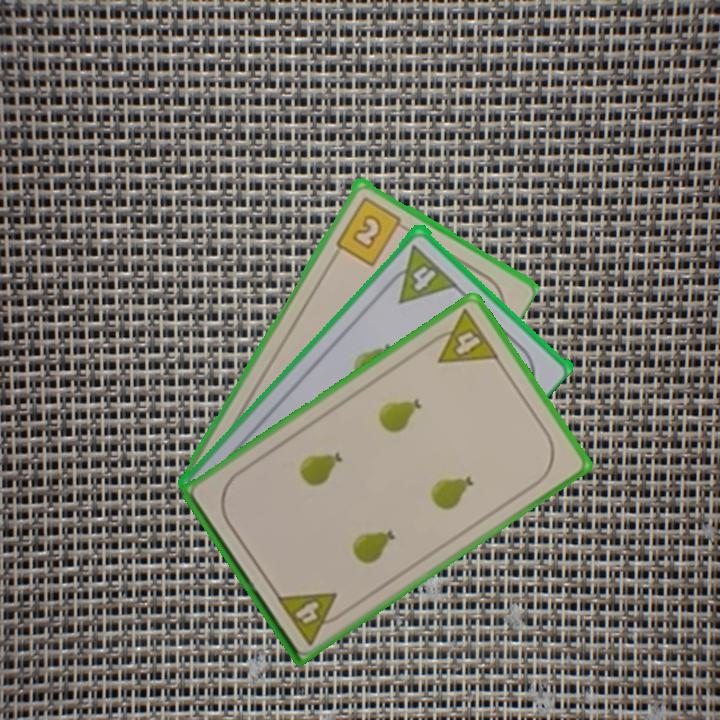2b: (331, 193, 411, 268)
4p: (423, 305, 502, 366), (273, 588, 350, 648), (399, 257, 456, 306)
